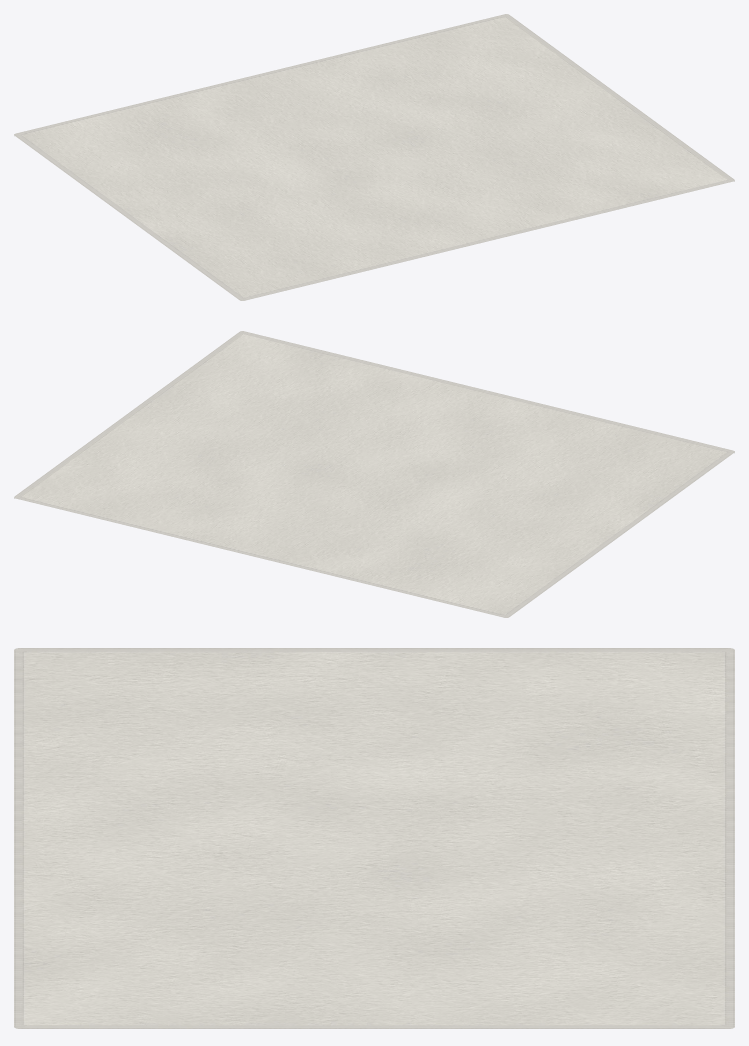
Rendered from ivory_L_r90.glb.
3 views of the same model, one above another, from view 1: azimuth 30°, elevation 25°; view 2: azimuth 150°, elevation 25°; view 3: azimuth 270°, elevation 25° (orthographic). The views are drawn at different scales.
Visible parts, largest first — view 1: reliv_ivory_L_r90; view 2: reliv_ivory_L_r90; view 3: reliv_ivory_L_r90.
Part boxes in pixels (left/top/right/bottom): reliv_ivory_L_r90: left=14, top=14, right=734, bottom=300; reliv_ivory_L_r90: left=14, top=331, right=734, bottom=617; reliv_ivory_L_r90: left=14, top=648, right=734, bottom=1028.
Bounding box in the file's own units: 2.5 × 0.009 × 2.
2 materials, 1 textured.
